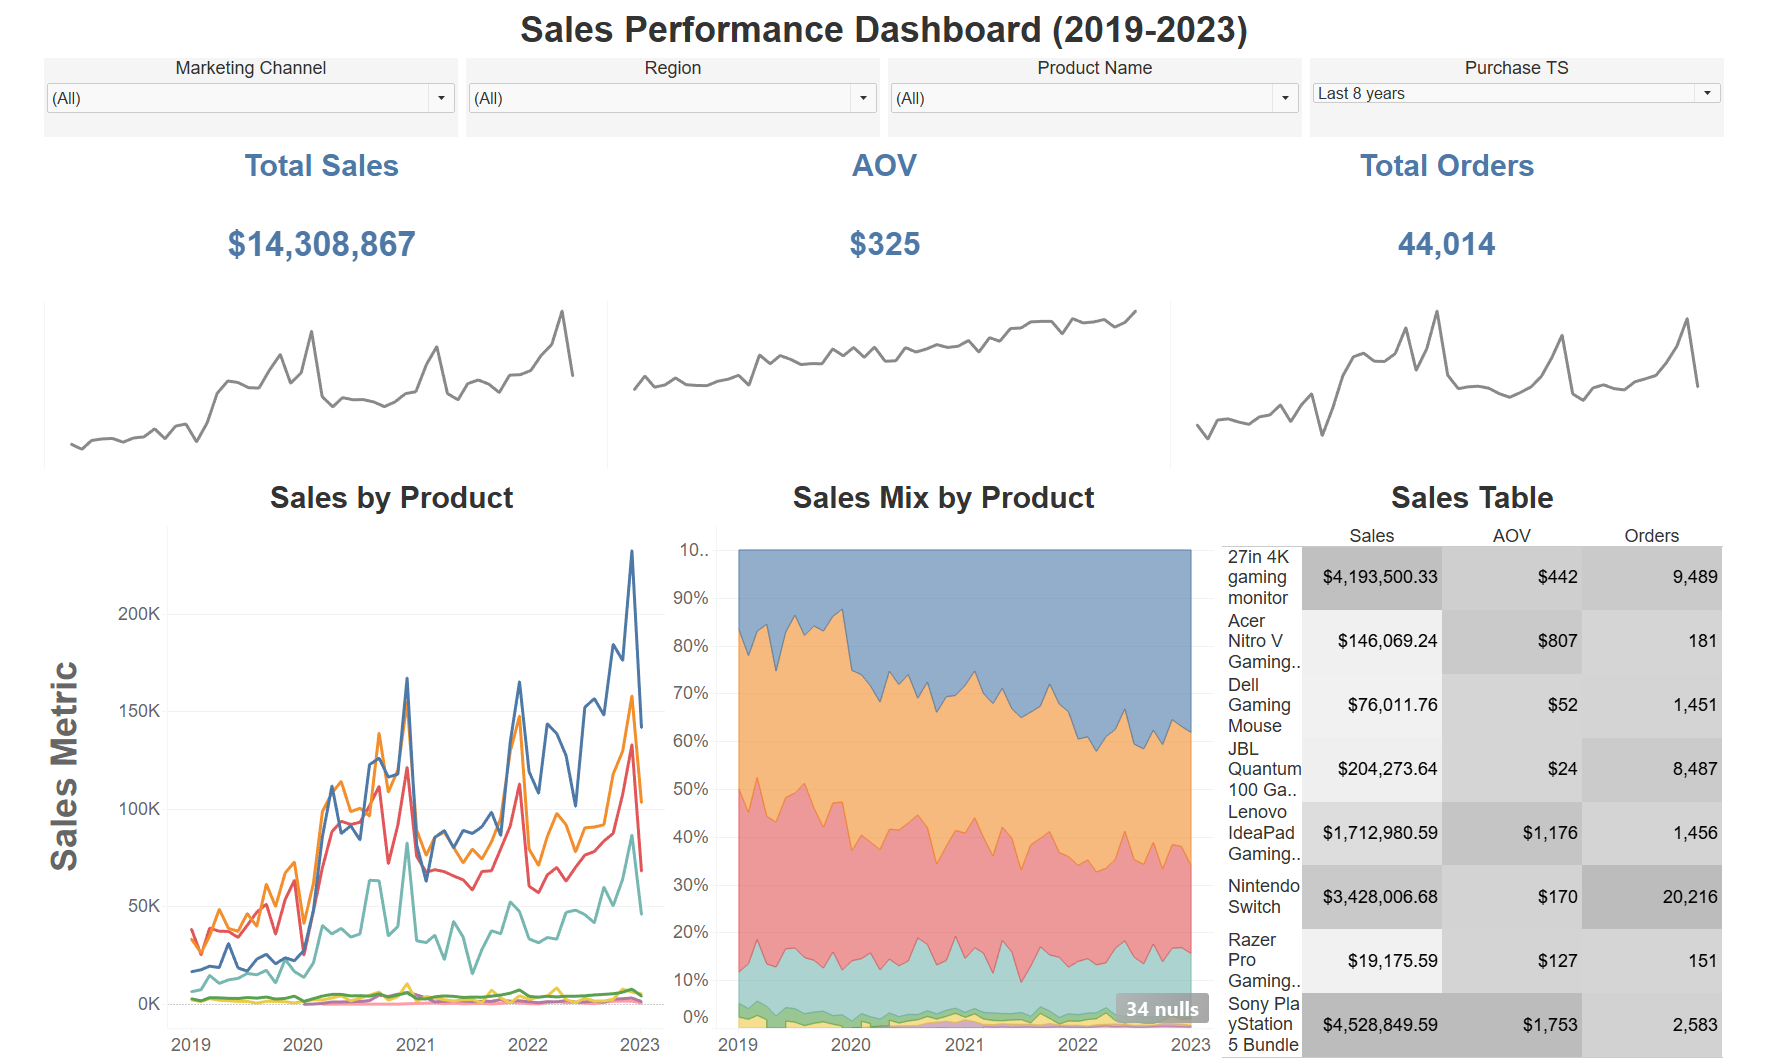

The dashboard page shown, as its layout file describes it:
{"tool":"tableau","page":{"name":"Sales Dashboard","canvas":[1000,1000],"units":"permille","ordinal":0},"visuals":[{"type":"title","box":[5,4.8,990,29.4]},{"type":"filter","title":"sales by product","param":"[federated.0duj95g09rn7qo1b5uj790n71l9p].[none:MARKETING_CHANNEL_CLEANED:nk]","box":[5,34.2,247.5,52.2]},{"type":"filter","title":"sales by product","param":"[federated.0duj95g09rn7qo1b5uj790n71l9p].[none:REGION_CLEANED:nk]","box":[252.5,34.2,247.5,52.2]},{"type":"filter","title":"sales by product","param":"[federated.0duj95g09rn7qo1b5uj790n71l9p].[none:PRODUCT_NAME_CLEANED:nk]","box":[500,34.2,247.5,52.2]},{"type":"filter","title":"sales by product","param":"[federated.0duj95g09rn7qo1b5uj790n71l9p].[none:PURCHASE_TS_CLEANED:qk]","box":[747.5,34.2,247.5,52.2]},{"type":"worksheet","title":"Total Sales","mark":"Automatic","box":[5,86.4,330.4,93.6]},{"type":"worksheet","title":"AOV","mark":"Automatic","box":[335.4,86.4,329.8,93.6]},{"type":"worksheet","title":"Total Orders","mark":"Automatic","box":[665.2,86.4,329.8,93.6]},{"type":"worksheet","title":"Sales Sparkline","mark":"Automatic","rows":["USD_PRICE_CLEANED"],"cols":["PURCHASE_TS_CLEANED"],"box":[5,180.1,330.4,105.6]},{"type":"worksheet","title":"AOV Sparkline","mark":"Automatic","rows":["USD_PRICE_CLEANED"],"cols":["PURCHASE_TS_CLEANED"],"box":[335.4,180.1,329.8,105.6]},{"type":"worksheet","title":"Order Sparkline","mark":"Automatic","rows":["orders!cleaned_CCAD8B134F124CB98EA87EA8848CB741"],"cols":["PURCHASE_TS_CLEANED"],"box":[665.2,180.1,329.8,105.6]},{"type":"text","box":[5,285.7,46.1,353.4]},{"type":"worksheet","title":"sales by product","mark":"Line","rows":["USD_PRICE_CLEANED"],"cols":["PURCHASE_TS_CLEANED"],"box":[51.1,285.7,314.8,353.4]},{"type":"worksheet","title":"sales mix by product","mark":"Area","cols":["PURCHASE_TS_CLEANED"],"box":[366,285.7,311.1,353.4]},{"type":"worksheet","title":"Sales Table","mark":"Square","rows":["PRODUCT_NAME_CLEANED"],"box":[677.1,285.7,318,353.4]},{"type":"text","box":[5,639.1,46.1,356.1]},{"type":"worksheet","title":"Sales by Region","mark":"Bar","rows":["USD_PRICE_CLEANED"],"cols":["PURCHASE_TS_CLEANED"],"box":[51.1,639.1,943.9,356.1]},{"type":"legend","title":"Sales by Region","param":"[federated.0duj95g09rn7qo1b5uj790n71l9p].[none:REGION_CLEANED:nk]","box":[825.4,653.7,87.3,75.6]}]}

Visuals, with their boxes on the dashboard's canvas, which has no fixed pixel size, in thousandths of its width and height (x1, y1, x2, y2). These are canvas units, not pixel positions in the 1766x1063 screenshot, which may show the page scaled, cropped or inside an application window:
title: bbox(5, 5, 995, 34)
"sales by product" filter: bbox(5, 34, 252, 86)
"sales by product" filter: bbox(252, 34, 500, 86)
"sales by product" filter: bbox(500, 34, 748, 86)
"sales by product" filter: bbox(748, 34, 995, 86)
"Total Sales" worksheet: bbox(5, 86, 335, 180)
"AOV" worksheet: bbox(335, 86, 665, 180)
"Total Orders" worksheet: bbox(665, 86, 995, 180)
"Sales Sparkline" worksheet: bbox(5, 180, 335, 286)
"AOV Sparkline" worksheet: bbox(335, 180, 665, 286)
"Order Sparkline" worksheet: bbox(665, 180, 995, 286)
text: bbox(5, 286, 51, 639)
"sales by product" worksheet (Line marks): bbox(51, 286, 366, 639)
"sales mix by product" worksheet (Area marks): bbox(366, 286, 677, 639)
"Sales Table" worksheet (Square marks): bbox(677, 286, 995, 639)
text: bbox(5, 639, 51, 995)
"Sales by Region" worksheet (Bar marks): bbox(51, 639, 995, 995)
"Sales by Region" legend: bbox(825, 654, 913, 729)
